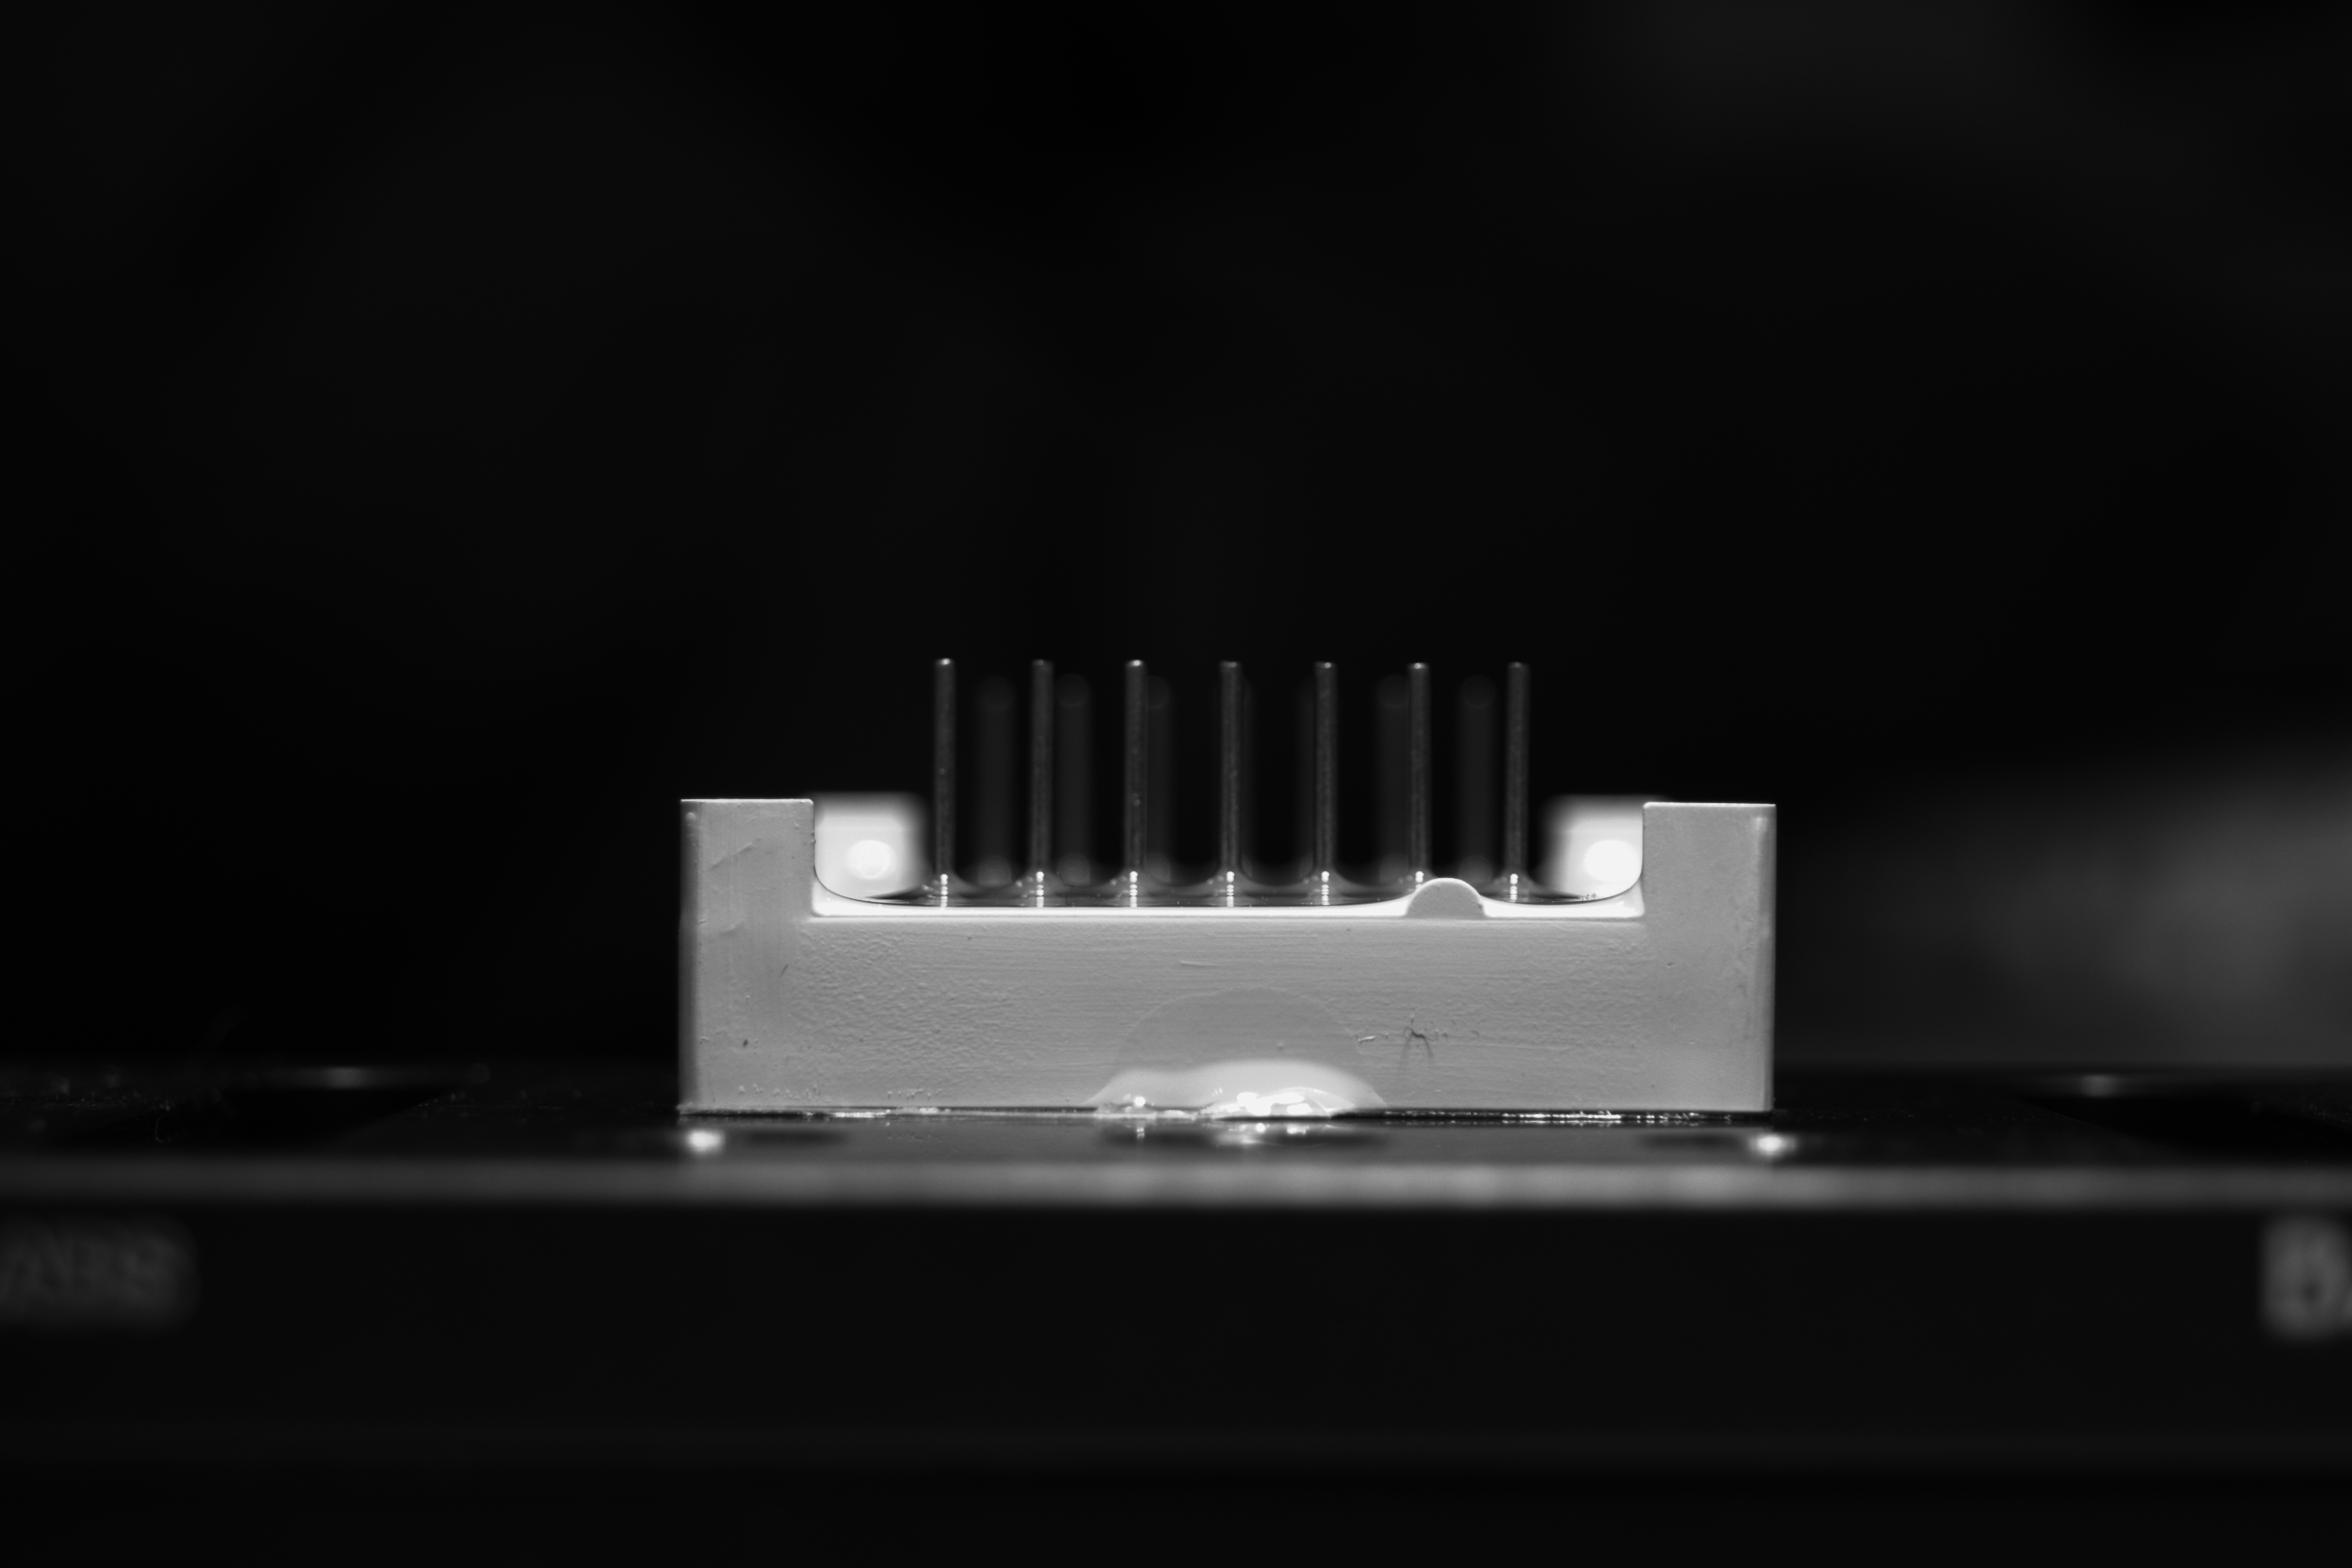Component: (675, 651, 1781, 1129)
